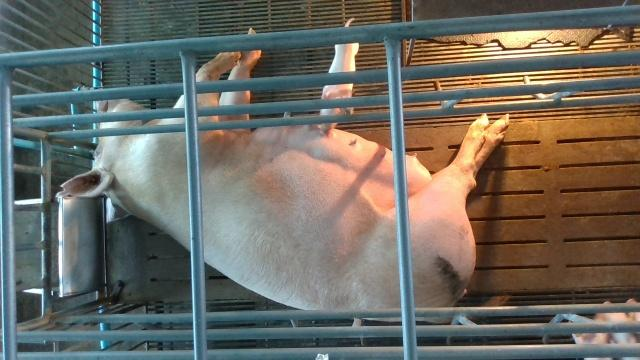piglet: (317, 16, 360, 135)
sow-sleep-lactate: (63, 30, 510, 323)
